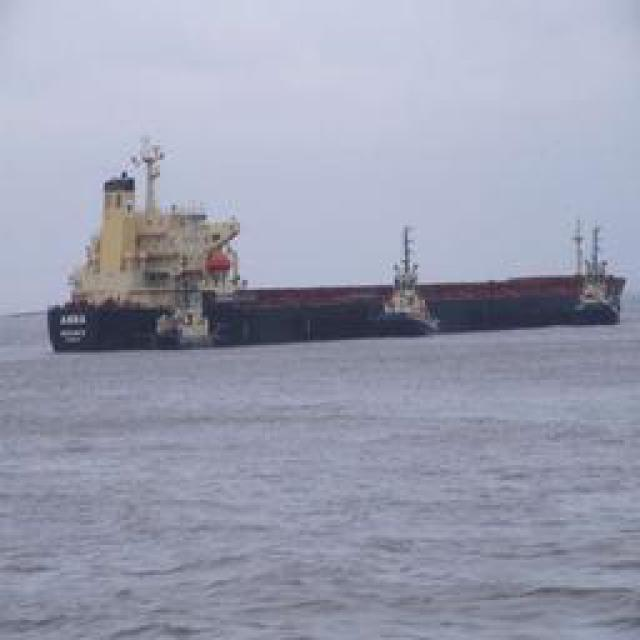Ship: (44, 140, 630, 360)
